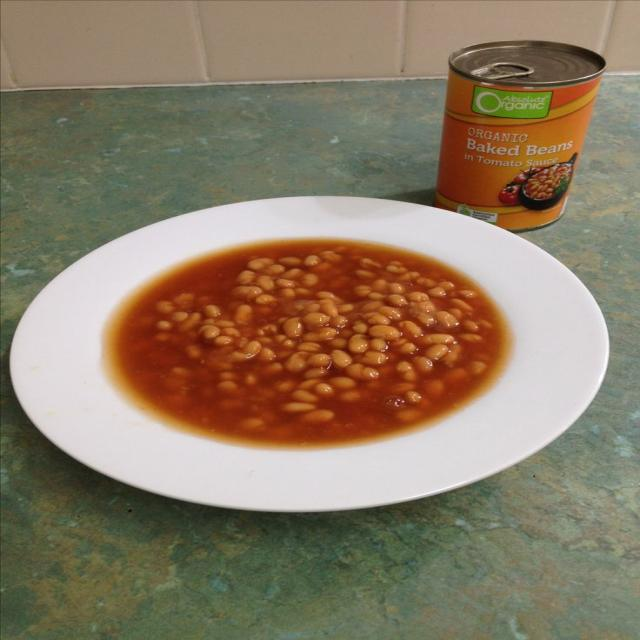beans: (152, 246, 493, 432), (346, 364, 379, 380), (368, 325, 400, 341), (302, 312, 330, 329), (434, 311, 459, 328), (360, 351, 387, 366), (283, 318, 303, 337), (348, 334, 368, 353), (331, 350, 352, 368), (303, 410, 334, 422), (426, 344, 449, 360), (400, 321, 422, 337), (234, 305, 253, 323), (292, 390, 318, 403), (283, 402, 315, 412), (426, 334, 455, 344)
